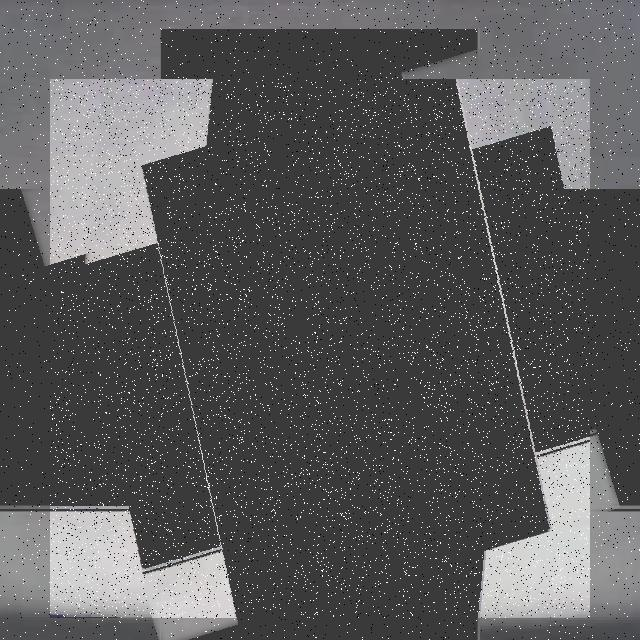dua puluh ribu rupiah: (50, 79, 590, 618)
